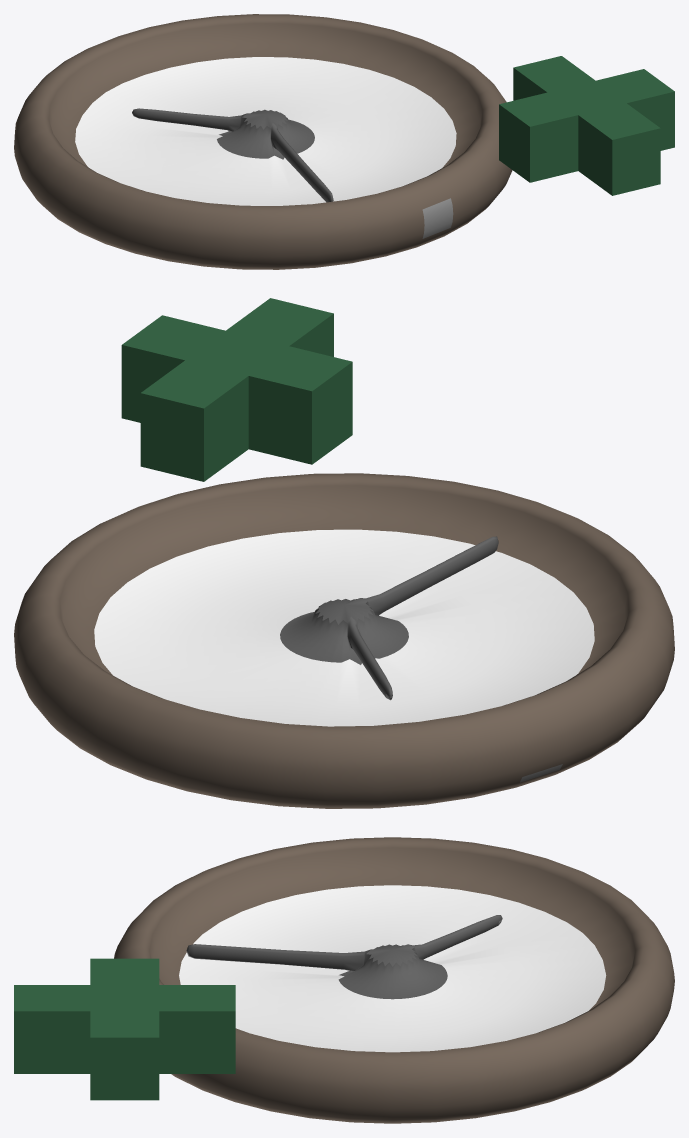
The model's file is Clock.fbx.
3 renders of one model, top to bottom at view 1: azimuth 30°, elevation 25°; view 2: azimuth 150°, elevation 25°; view 3: azimuth 270°, elevation 25°, orthographic. The views are drawn at different scales.
Visible parts, largest first — view 1: Clock, Plus; view 2: Clock, Plus; view 3: Clock, Plus.
Boxes of the visible parts, <box> form: Clock: <box>14,14,512,269</box>; Plus: <box>499,56,674,195</box>; Clock: <box>14,473,674,808</box>; Plus: <box>121,298,352,481</box>; Clock: <box>114,837,674,1123</box>; Plus: <box>14,958,235,1100</box>.
Size of the model in its own units: 1.31 by 0.2919 by 1.37.
